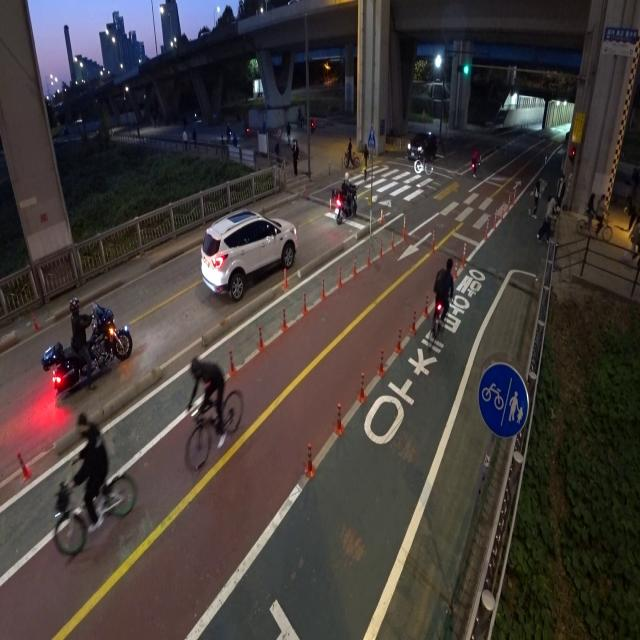Car: (194, 199, 305, 304), (402, 120, 438, 160)
Motorcycle: (43, 299, 132, 396), (327, 172, 358, 226)
